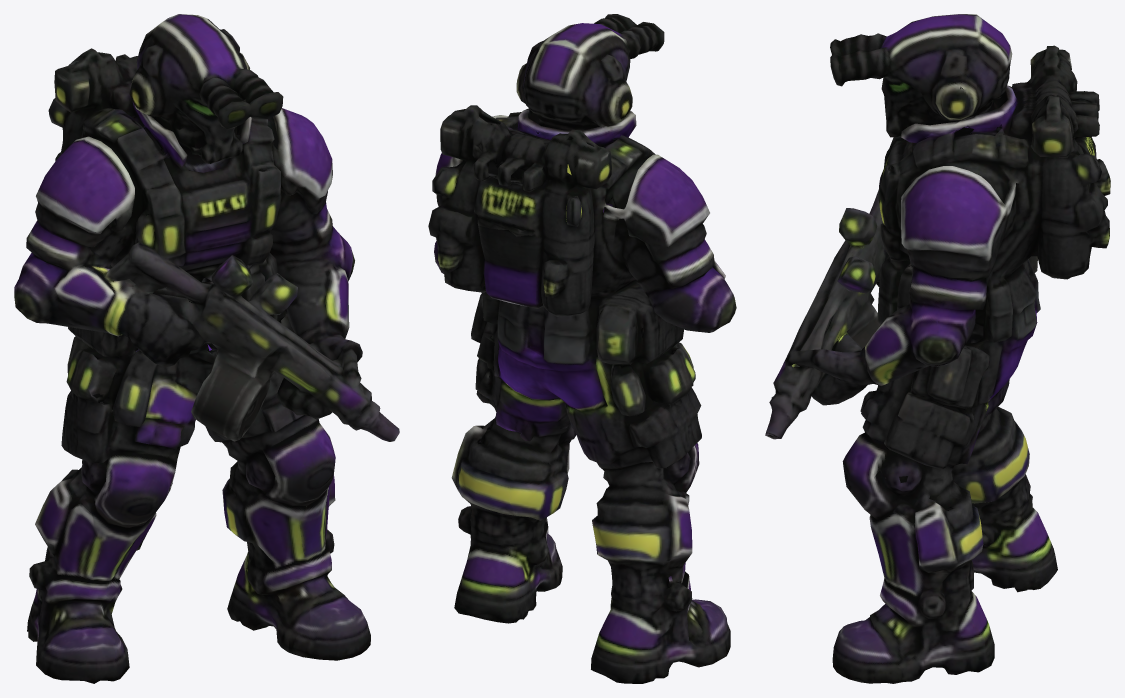
File: sentinel_l05.glb
The picture shows the model from 3 angles, left to right: view 1: azimuth 30°, elevation 25°; view 2: azimuth 150°, elevation 25°; view 3: azimuth 270°, elevation 25°; orthographic projection. The views are drawn at different scales.
Visible parts, largest first — view 1: world; view 2: world; view 3: world.
Boxes of the visible parts, left/top/right/bottom form: world: left=14, top=14, right=399, bottom=683; world: left=428, top=14, right=736, bottom=683; world: left=765, top=14, right=1110, bottom=683.
Size of the model in its own units: 0.5461 by 1 by 0.522.
Materials: 1 (1 with a texture image).
